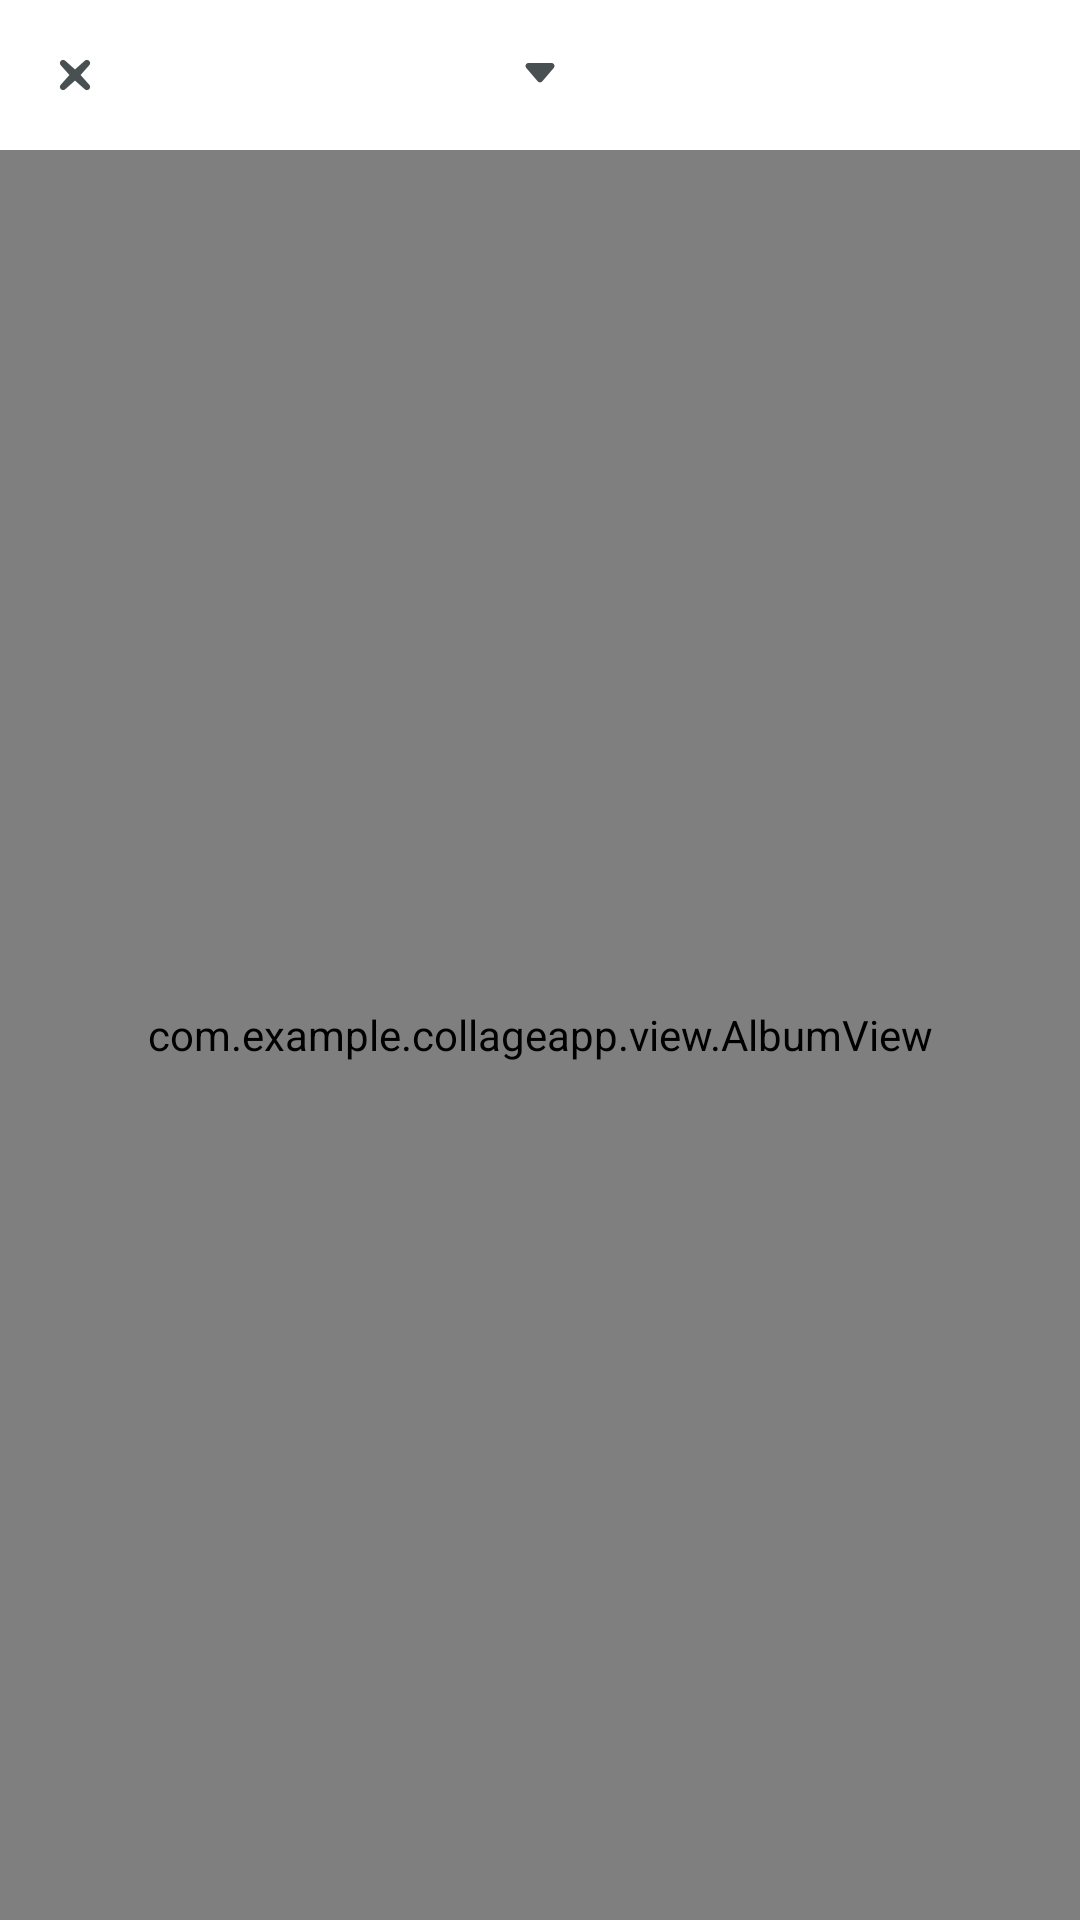

Icon bounding boxes for this 1080w x 1920h phone screenshot, format (x1, y1, x2, y2):
close: (60, 60, 90, 90)
